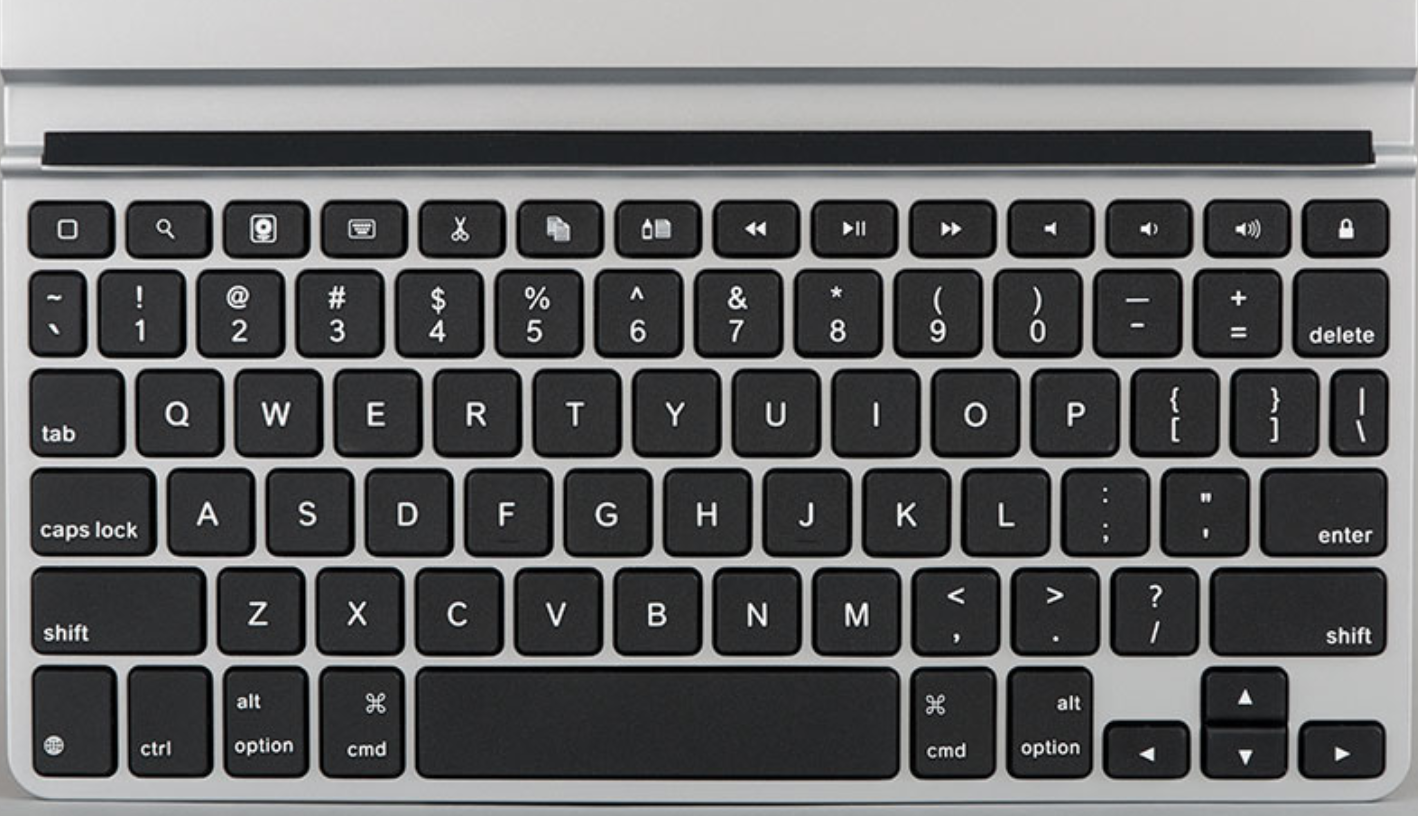keyboard: (10, 189, 1412, 800)
